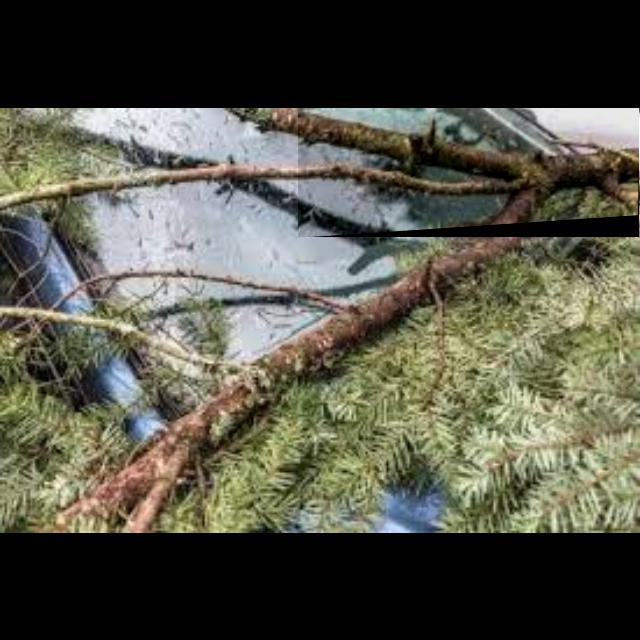Fallen Tree: (298, 108, 640, 238)
